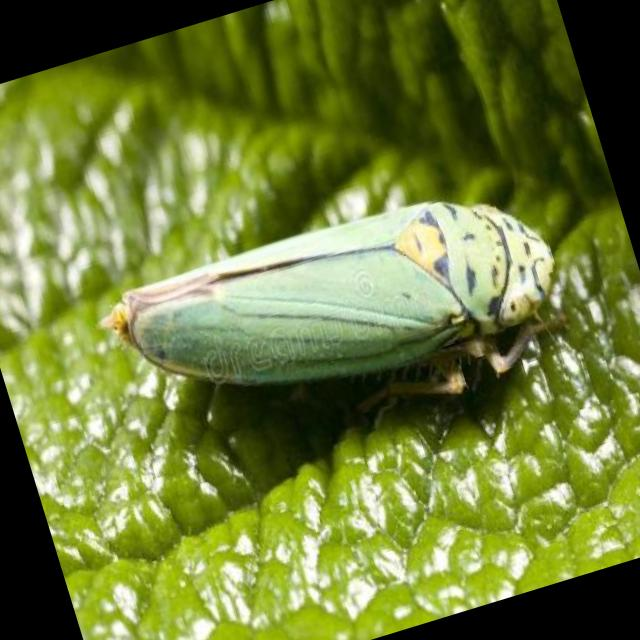green-leafhopper: (104, 157, 588, 480)
